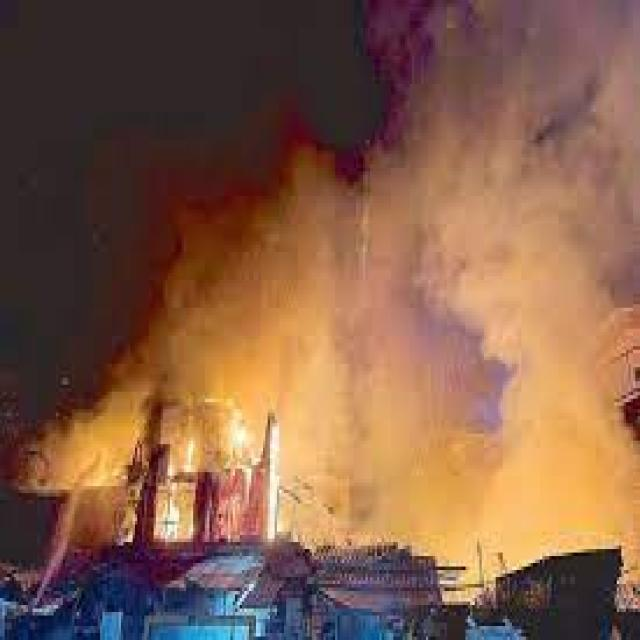Smoke: (367, 0, 640, 580), (185, 208, 369, 583)
